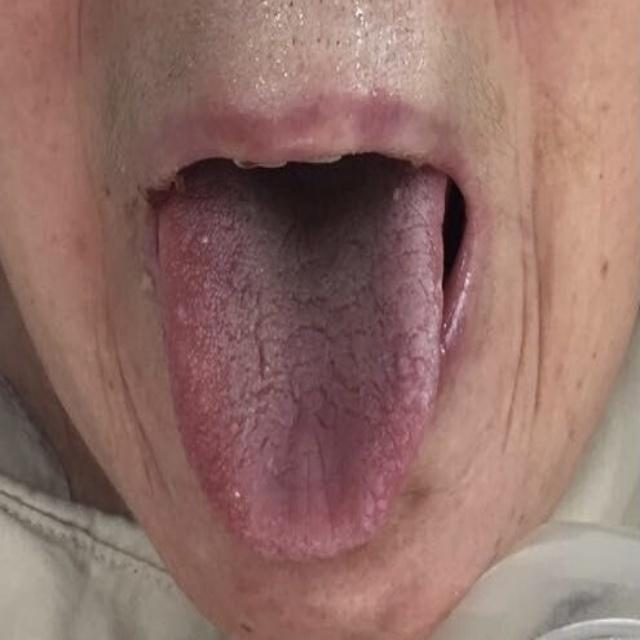baitaishe: (155, 177, 443, 564)
liewenshe: (248, 300, 369, 423)
